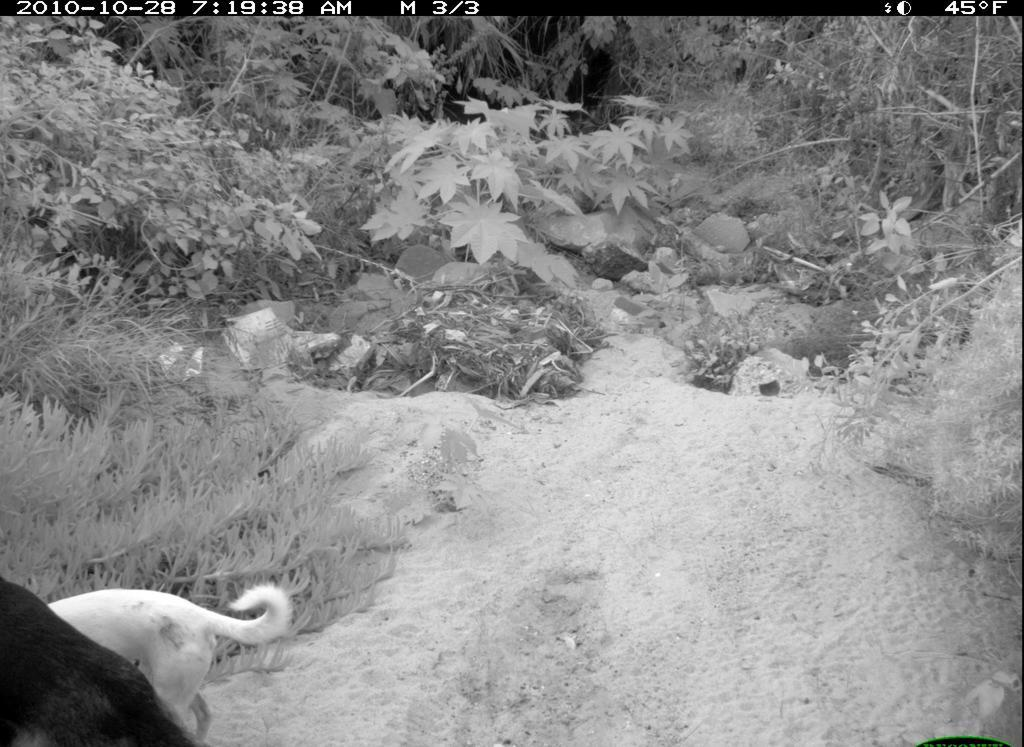dog: (27, 575, 301, 747), (3, 559, 205, 745)
